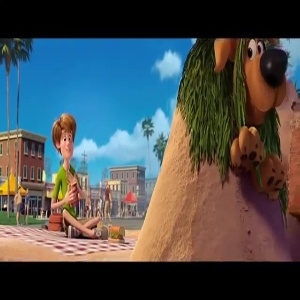Scooby: (214, 34, 287, 127)
Shagy: (41, 108, 87, 163)
